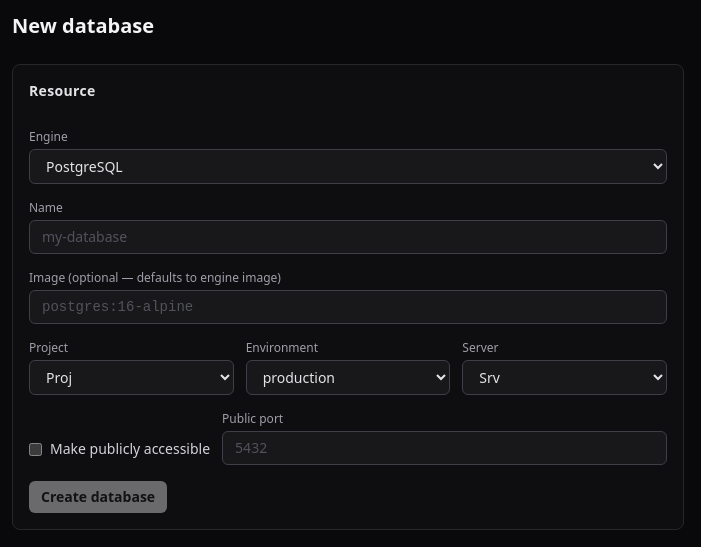
Test: NewDatabase form › disables submit until a name is entered
Expected: the button "Create database" is disabled, left=29, top=481, right=167, bottom=513
Step 1. Type "orders-db" into the field with placeholder "my-database" → (348, 237), box left=29, top=220, right=667, bottom=254
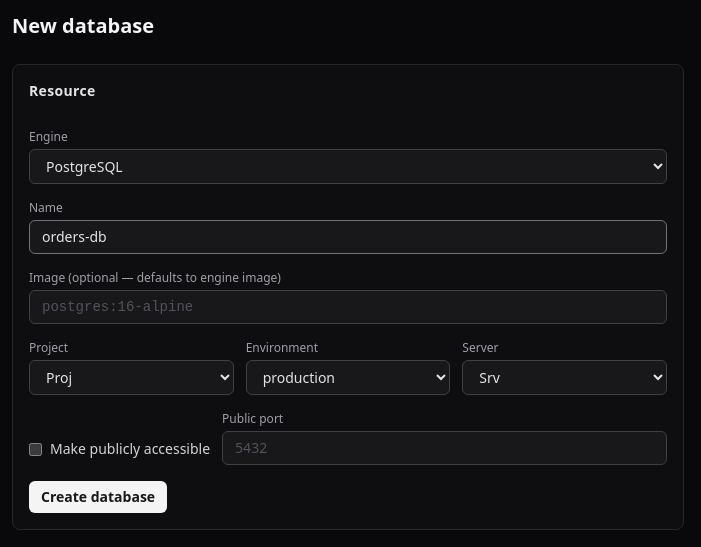
Now the button "Create database" is enabled, box left=29, top=481, right=167, bottom=513
